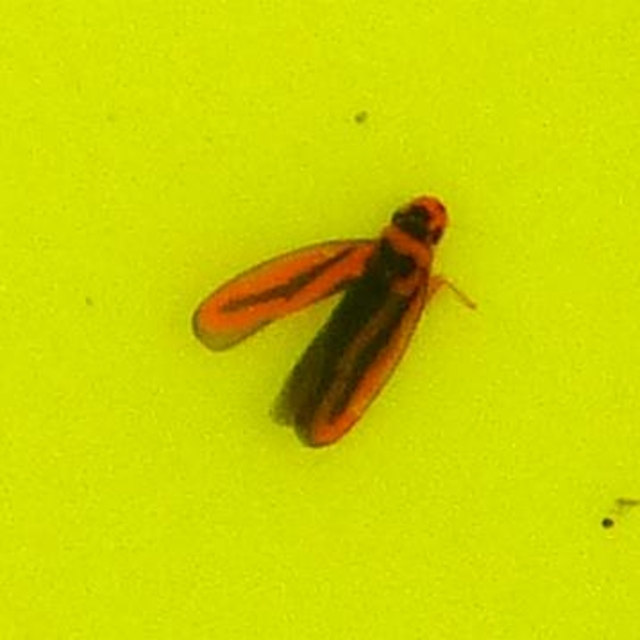Hemiptera: (179, 182, 461, 458)
